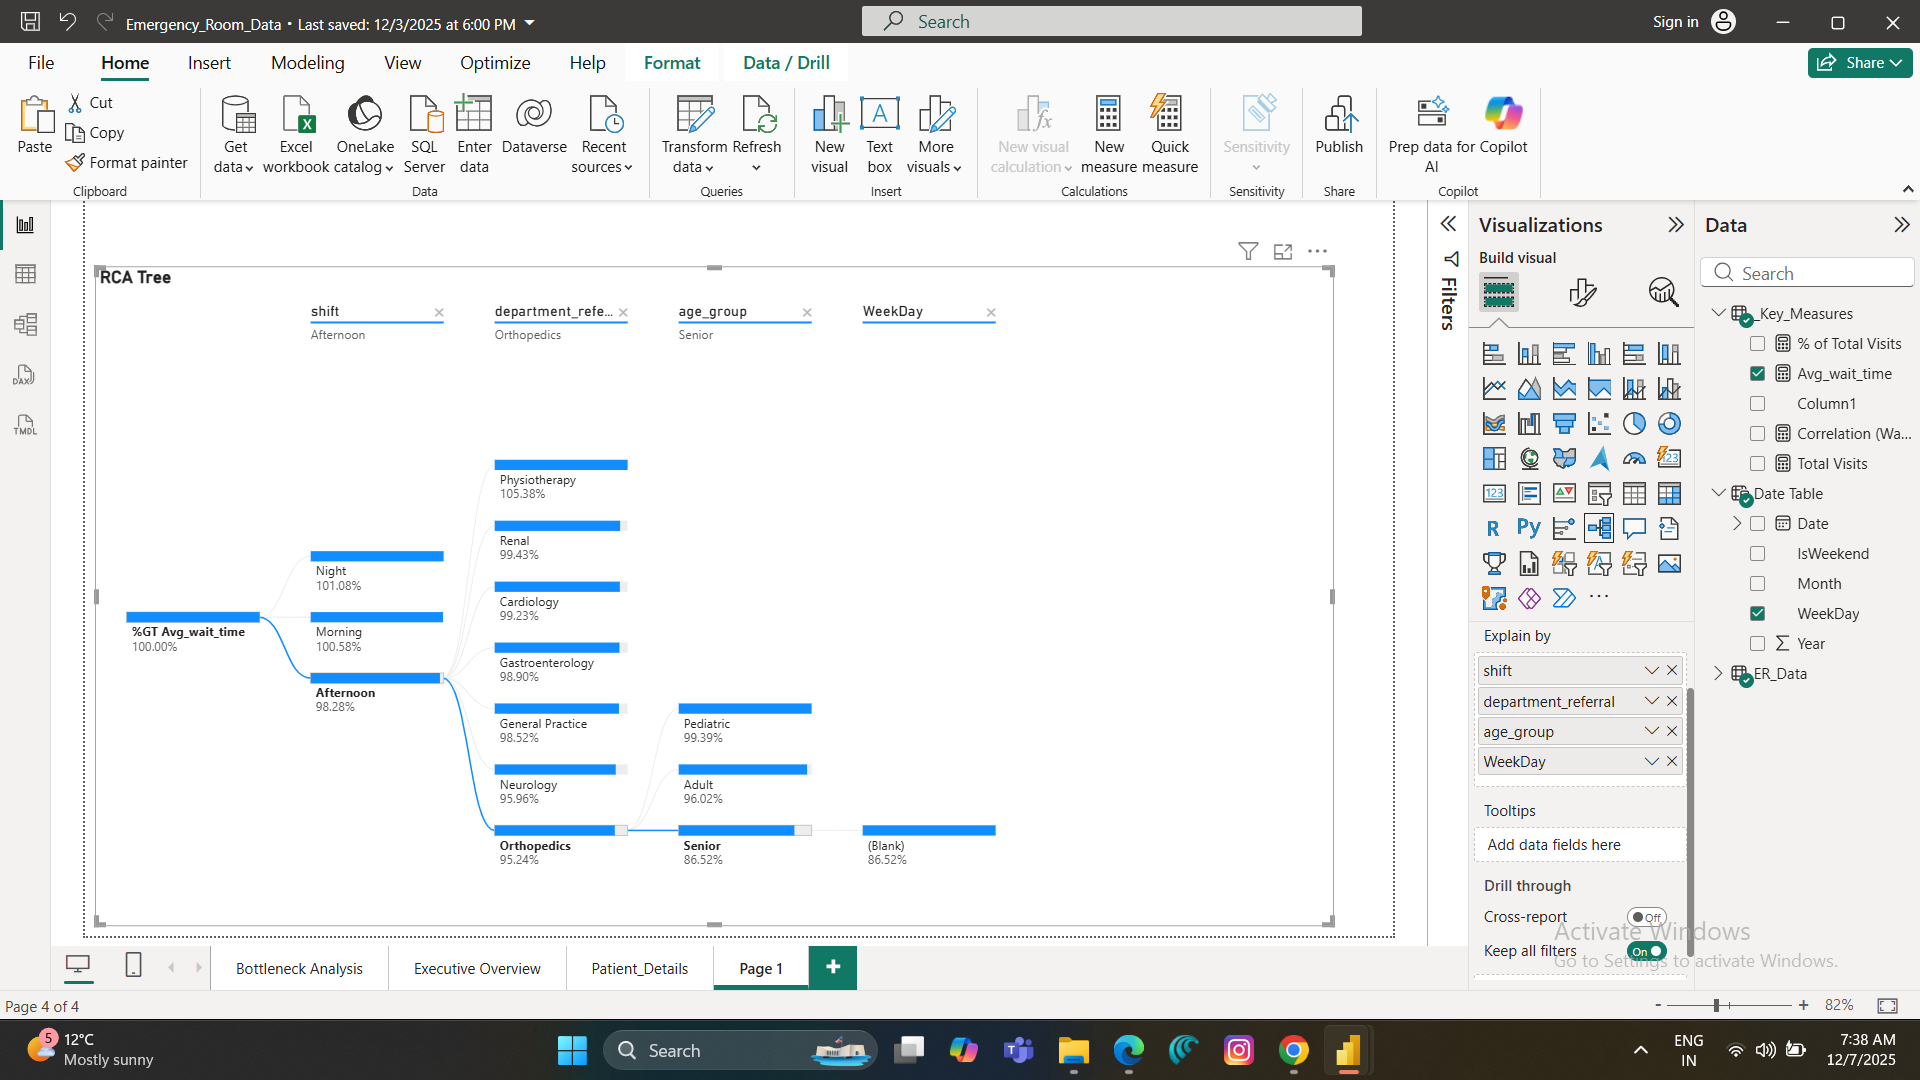

Layout of this report page (visuals, bound fields, positions):
{"tool":"powerbi","page":{"name":"Page 1","canvas":[1280,720],"ordinal":3},"visuals":[{"type":"decompositionTreeVisual","title":"RCA Tree","fields":{"Analyze":["_Key_Measures.Avg_wait_time"],"ExplainBy":["ER_Data.shift","ER_Data.department_referral","ER_Data.age_group","Date Table.WeekDay"]},"box":[9.8,64.8,1211.8,645.7],"z":0}]}

Visuals, with their boxes on the page's 1280x720 design canvas (x1, y1, x2, y2). These are canvas units, not pixel positions in the 1920x1080 screenshot, which may show the page scaled, cropped or inside an application window:
"RCA Tree" decompositionTreeVisual: <bbox>10, 65, 1222, 710</bbox>
